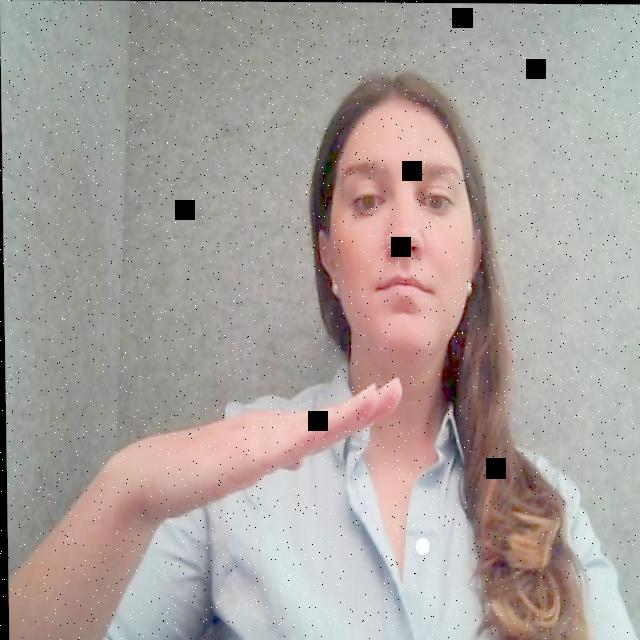Paper: (169, 372, 397, 507)
